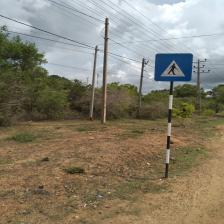blueboard: (154, 53, 193, 82)
